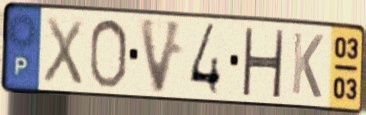4: (186, 20, 225, 98)
H: (239, 25, 286, 100)
K: (289, 29, 326, 101)
O: (87, 17, 130, 91)
V: (137, 15, 187, 96)
X: (41, 14, 85, 88)
